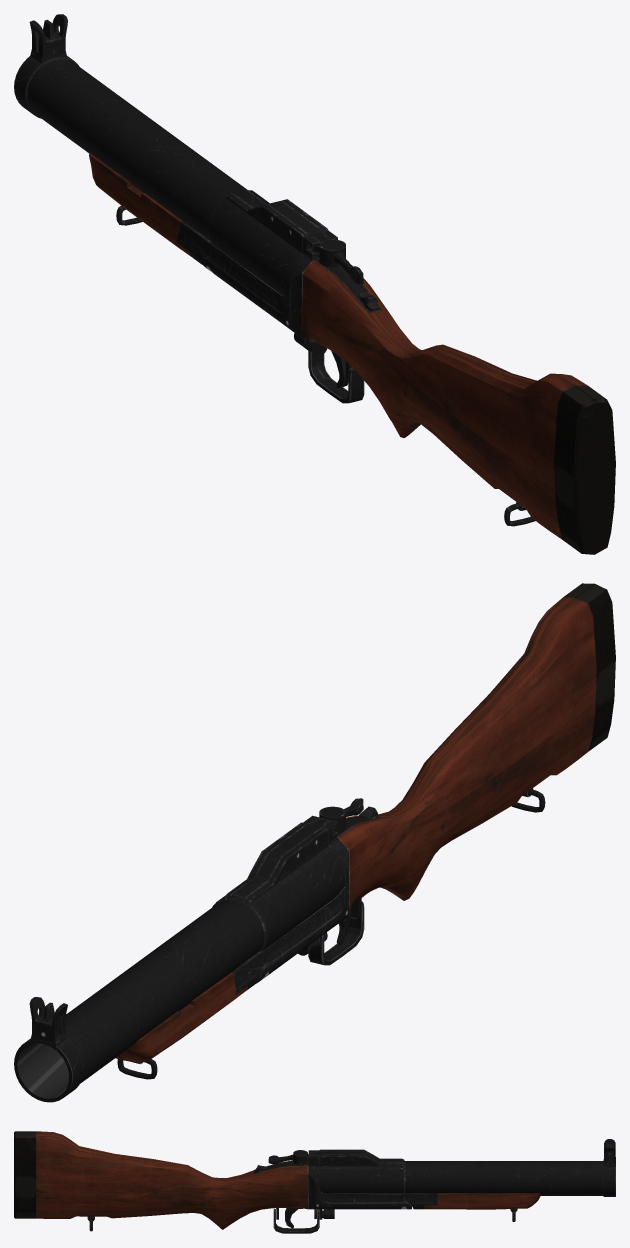
The model's file is launcher.glb.
3 renders of one model, top to bottom at view 1: azimuth 30°, elevation 25°; view 2: azimuth 150°, elevation 25°; view 3: azimuth 270°, elevation 25°, orthographic. The views are drawn at different scales.
Visible parts, largest first — view 1: Body, Barrel; view 2: Body, Barrel; view 3: Body, Barrel.
Boxes of the visible parts, box(x1,y1,x2,y2) form: Body: box(292, 230, 615, 554); Barrel: box(14, 14, 329, 382); Body: box(303, 583, 615, 964); Barrel: box(14, 818, 348, 1102); Body: box(14, 1131, 318, 1233); Barrel: box(309, 1139, 615, 1230).
Size of the model in its own units: 0.0463 by 0.1343 by 0.74.
1 material, 1 textured.
